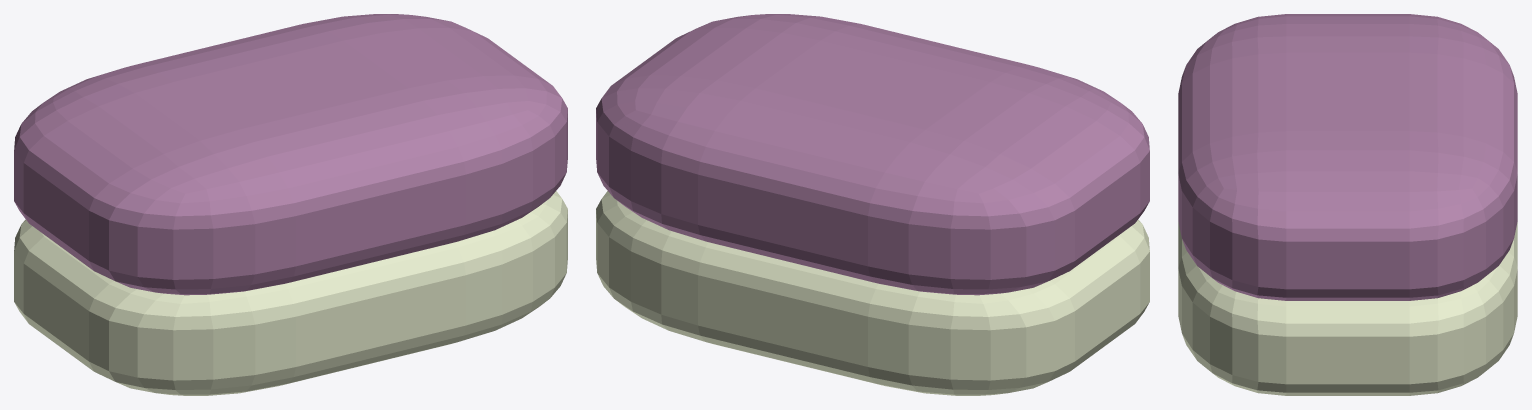
The model's file is Cloth.fbx.
3 views of the same model, side by side, from view 1: azimuth 30°, elevation 25°; view 2: azimuth 150°, elevation 25°; view 3: azimuth 270°, elevation 25° (orthographic). The views are drawn at different scales.
Visible parts, largest first — view 1: clothes cube2; view 2: clothes cube2; view 3: clothes cube2.
Part boxes in pixels (x1,y1,x2,y2): clothes cube2: (14,14,567,395); clothes cube2: (596,14,1149,395); clothes cube2: (1178,14,1517,395).
Size of the model in its own units: 160 by 78.12 by 106.
